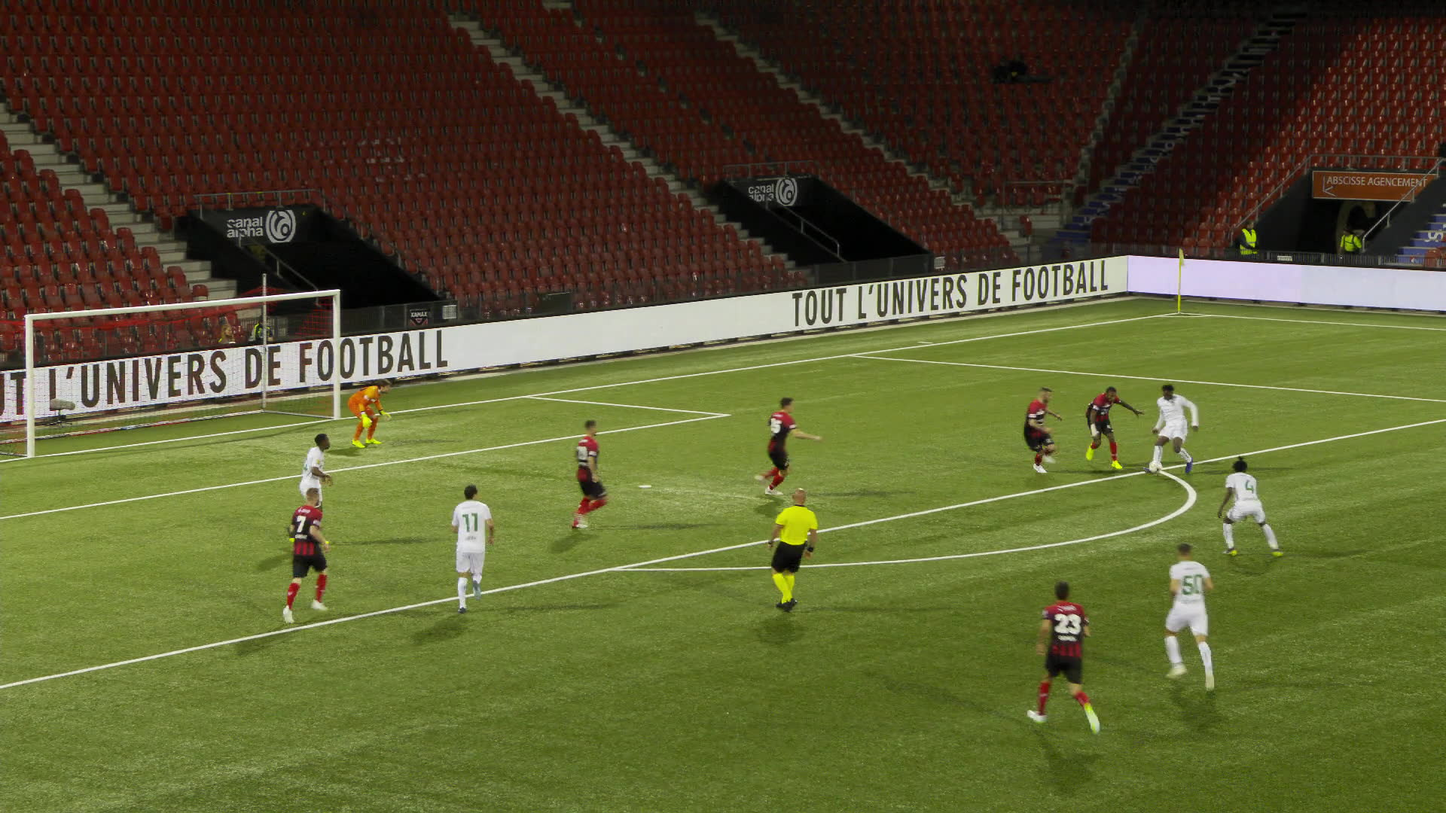ball: (1152, 458, 1162, 469)
player: (1042, 584, 1095, 746), (1167, 548, 1223, 687), (1216, 455, 1289, 556), (736, 397, 811, 495), (282, 490, 331, 621), (451, 481, 497, 611), (554, 418, 607, 526), (1147, 384, 1207, 474), (1016, 385, 1071, 474), (297, 434, 338, 546), (1084, 384, 1133, 467), (347, 379, 389, 446)
referee: (767, 487, 819, 611)
